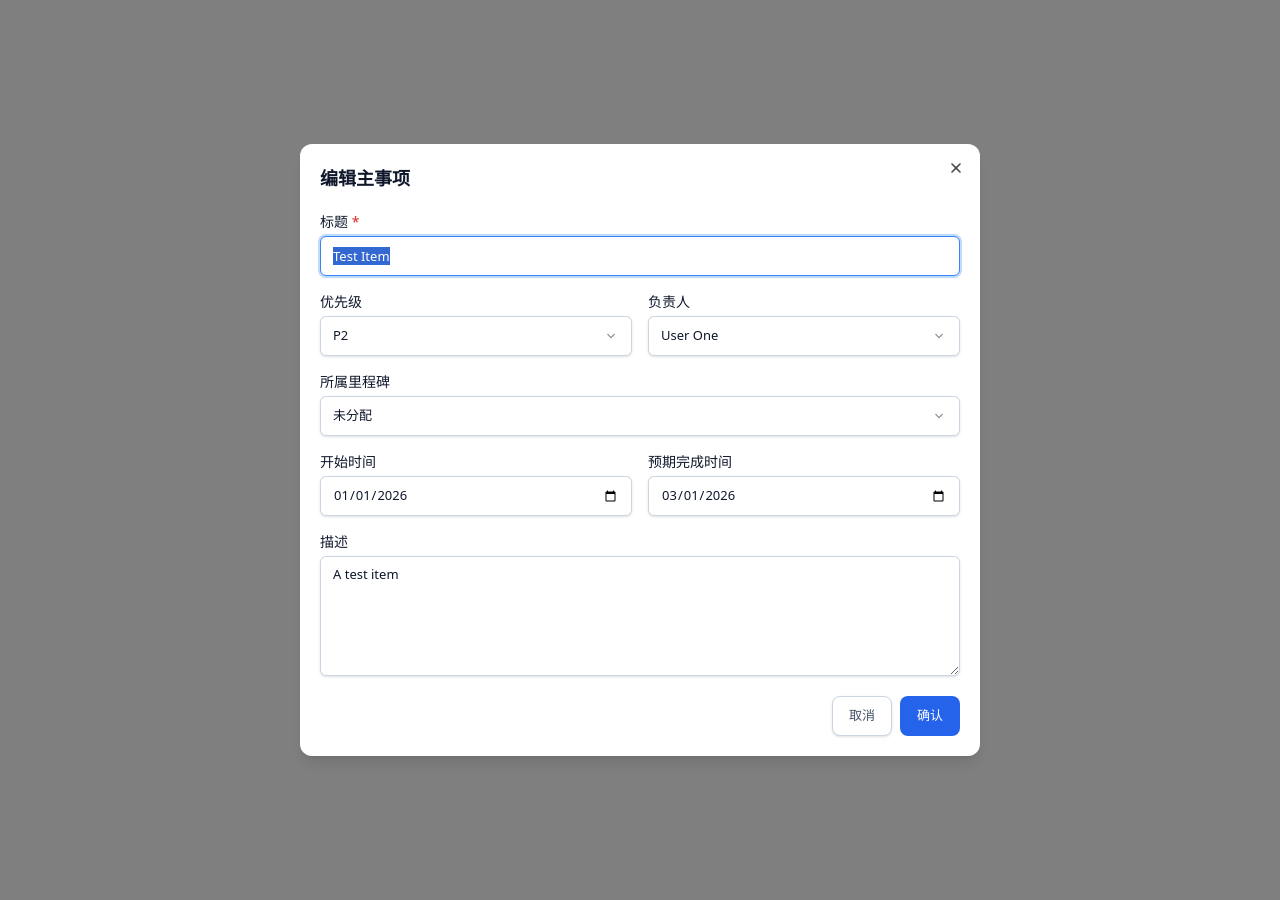
Test: EditMainItemDialog (item-view) — milestone selector › shows milestone options including 未分配 and milestone names
# Find the milestone combobox: it's preceded by the 所属里程碑 label
Click the dropdown labelled "未分配" at (353, 415), box [320,396,960,436]
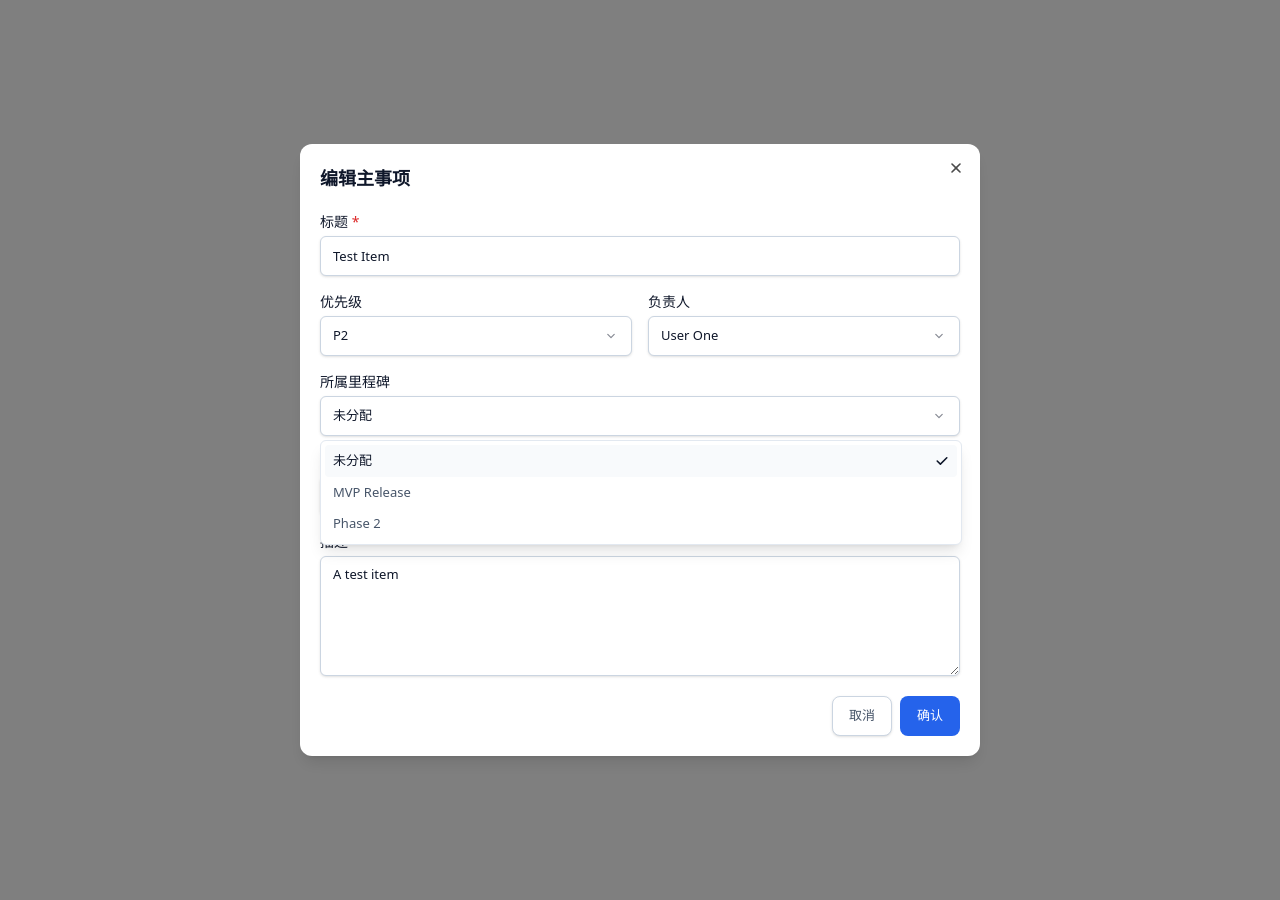
Now the option "未分配" is shown, box [325,445,957,476]
Now the option "MVP Release" is shown, box [333,482,411,500]
Now the option "Phase 2" is shown, box [333,514,381,532]
